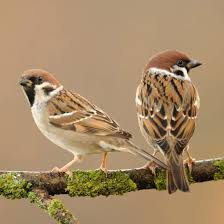hsparrow: (14, 66, 170, 194), (134, 45, 210, 196)
